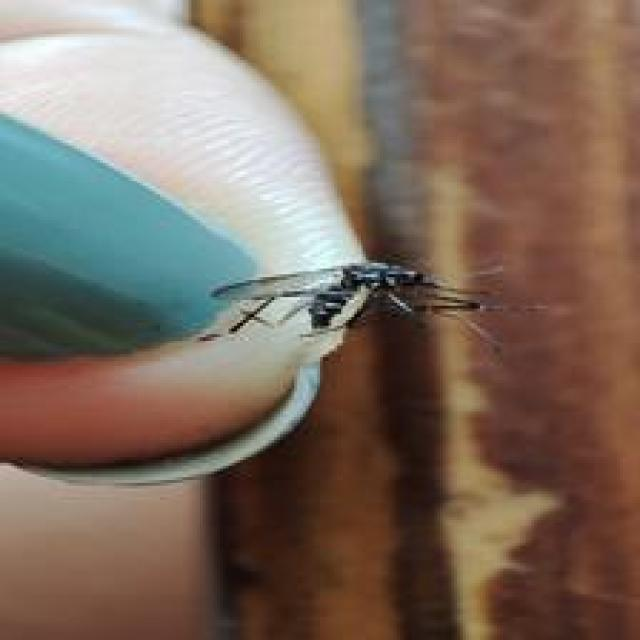Aedes albopictus: (205, 251, 546, 360)
